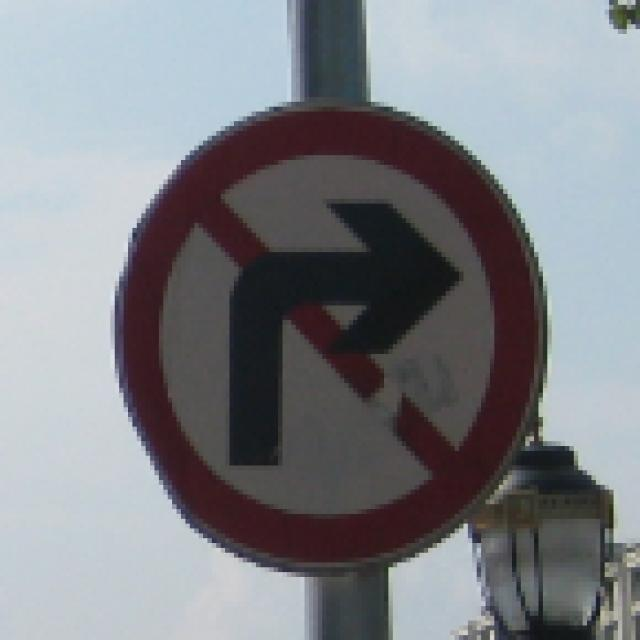Not that Direction: (124, 104, 559, 579)
